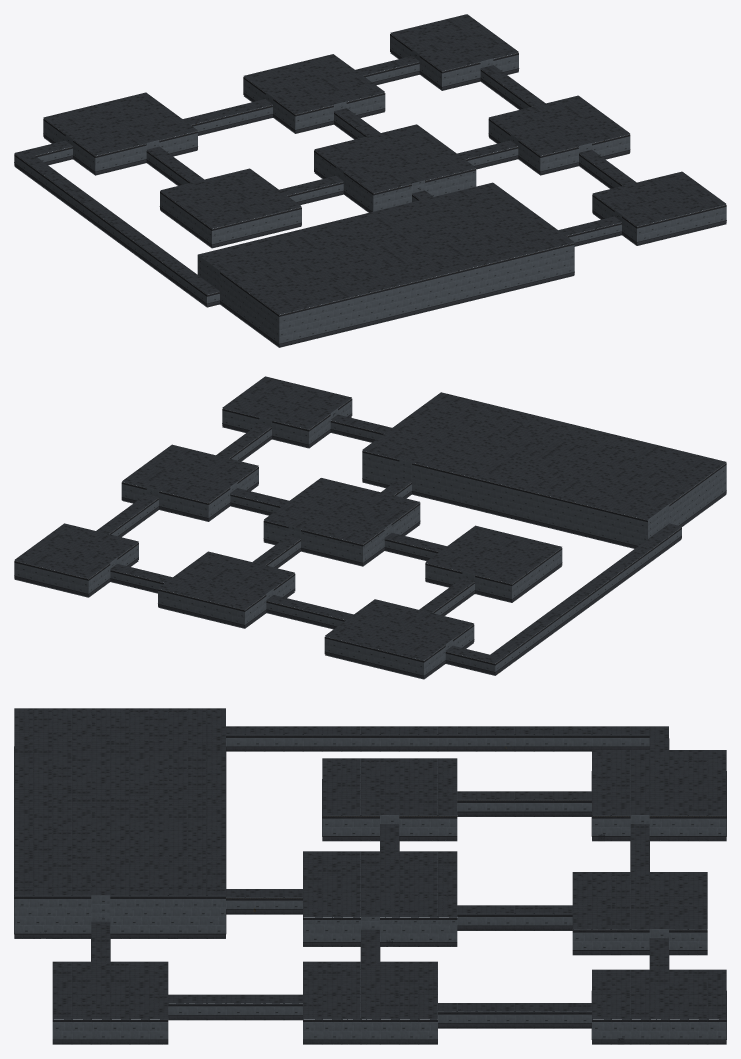
The model's file is stage.glb.
3 renders of one model, top to bottom at view 1: azimuth 30°, elevation 25°; view 2: azimuth 150°, elevation 25°; view 3: azimuth 270°, elevation 25°, orthographic. The views are drawn at different scales.
Visible parts, largest first — view 1: ZONE_H, ZONE_E, ZONE_C, ZONE_F, ZONE_D, ZONE_B, ZONE_G, ZONE_A, ZONE_n, ZONE_b, ZONE_c, ZONE_m (+9 smaller); view 2: ZONE_H, ZONE_E, ZONE_C, ZONE_B, ZONE_F, ZONE_D, ZONE_A, ZONE_G, ZONE_n, ZONE_b, ZONE_c, ZONE_k (+9 smaller); view 3: ZONE_H, ZONE_E, ZONE_C, ZONE_D, ZONE_B, ZONE_F, ZONE_A, ZONE_G, ZONE_n, ZONE_c, ZONE_h, ZONE_e (+9 smaller).
Boxes of the visible parts, box(x1,y1,x2,y2) form: ZONE_H: box(197, 182, 574, 347); ZONE_E: box(314, 124, 476, 212); ZONE_C: box(43, 92, 197, 175); ZONE_F: box(159, 168, 301, 248); ZONE_D: box(488, 95, 630, 175); ZONE_B: box(243, 54, 385, 133); ZONE_G: box(592, 171, 726, 245); ZONE_A: box(390, 14, 519, 90); ZONE_n: box(95, 209, 219, 307); ZONE_b: box(183, 99, 272, 135); ZONE_c: box(480, 65, 545, 109); ZONE_m: box(51, 177, 107, 225); ZONE_H: box(362, 392, 726, 548); ZONE_E: box(263, 478, 420, 566); ZONE_C: box(324, 599, 474, 679); ZONE_B: box(158, 551, 295, 628); ZONE_F: box(425, 525, 562, 602); ZONE_D: box(121, 444, 258, 521); ZONE_A: box(14, 523, 138, 597); ZONE_G: box(222, 376, 352, 448); ZONE_n: box(562, 523, 681, 617); ZONE_b: box(266, 595, 353, 629); ZONE_c: box(96, 494, 158, 537); ZONE_k: box(445, 645, 502, 675); ZONE_H: box(14, 708, 226, 938); ZONE_E: box(303, 851, 457, 946); ZONE_C: box(591, 750, 726, 841); ZONE_D: box(303, 961, 437, 1044); ZONE_B: box(572, 872, 707, 955); ZONE_F: box(322, 758, 457, 841); ZONE_A: box(591, 969, 726, 1044); ZONE_G: box(52, 961, 168, 1044); ZONE_n: box(226, 726, 457, 751); ZONE_c: box(438, 1003, 591, 1028); ZONE_h: box(168, 994, 302, 1020); ZONE_e: box(457, 791, 591, 816).
Size of the model in its own units: 148 by 10 by 148.
31 materials, 3 textured.
